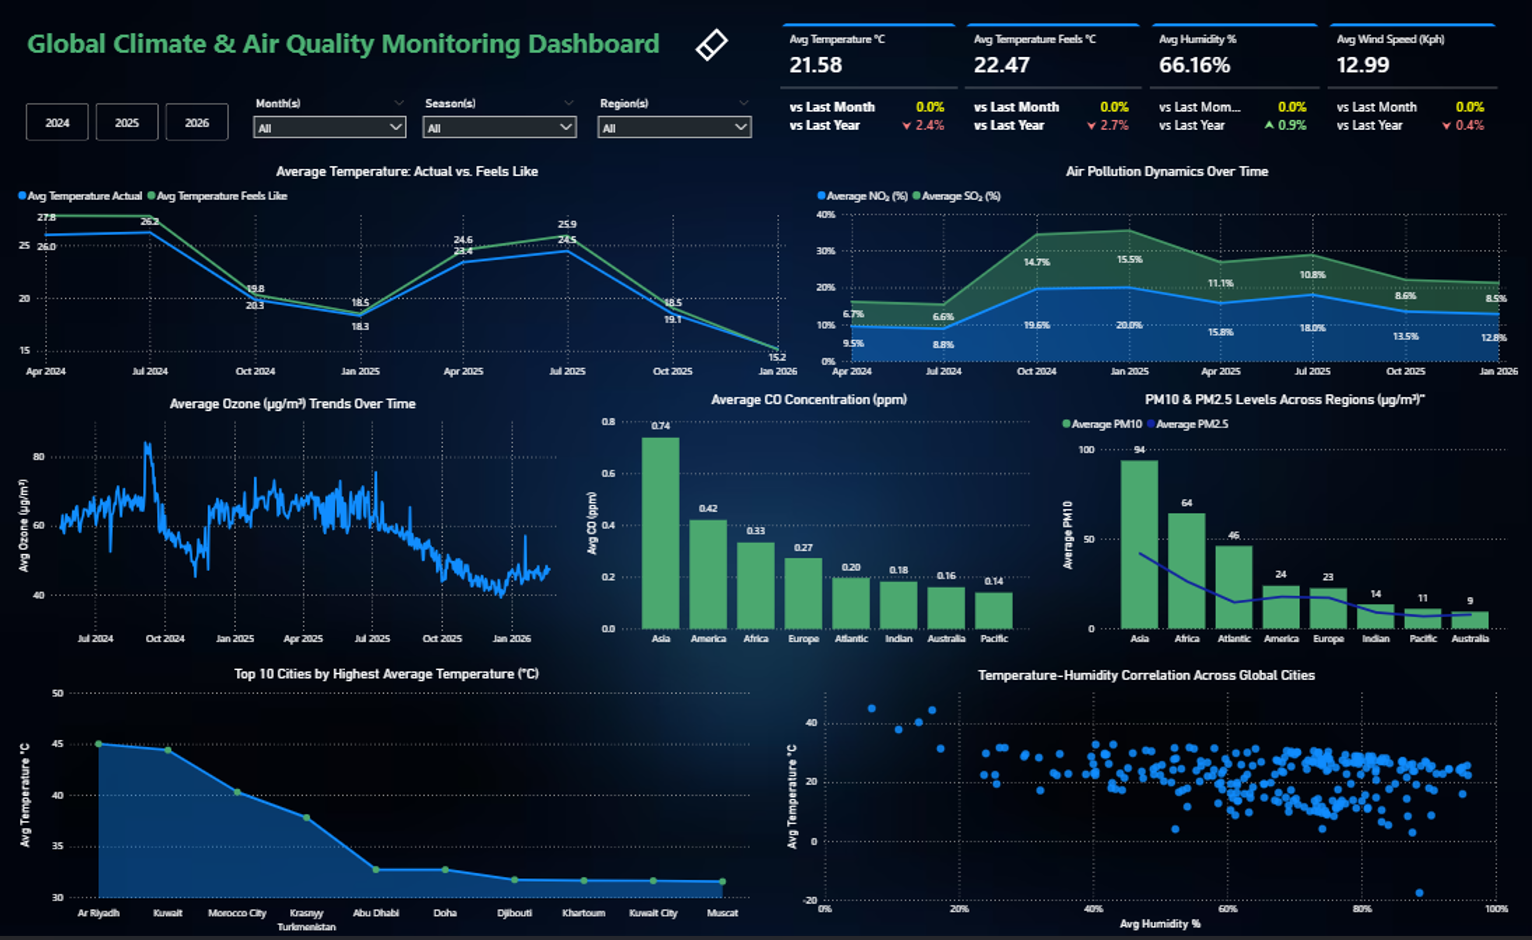

What the dashboard file says about the page in this screenshot:
{"tool":"powerbi","page":{"name":"Page 1","canvas":[1900,1400],"ordinal":0},"visuals":[{"type":"advancedSlicerVisual","fields":{"Values":["Weather.last_updated.Variation.Date Hierarchy.Year"]},"box":[36.2,246.6,260.3,56.9],"z":0},{"type":"slicer","fields":{"Values":["Weather.Continents"]},"box":[737,239.7,208.6,63.8],"z":1000},{"type":"cardVisual","fields":{"Data":["Weather.Avg temp clecius","Weather.Avg temp clecius feels like"]},"box":[954,136.2,481,191.4],"z":2000},{"type":"slicer","fields":{"Values":["Weather.last_updated.Variation.Date Hierarchy.Month"]},"box":[312.1,239.7,208,63.8],"z":3000},{"type":"slicer","fields":{"Values":["Weather.Season"]},"box":[520.7,239.7,208.6,63.8],"z":4000},{"type":"lineChart","title":"Average Temperature: Actual vs. Feels Like","fields":{"Category":["Weather.last_updated.Variation.Date Hierarchy.Year","Weather.last_updated.Variation.Date Hierarchy.Quarter","Weather.last_updated.Variation.Date Hierarchy.Month"],"Y":["Weather.Avg temp clecius","Weather.Avg temp clecius feels like"]},"box":[19,319,977.6,281],"z":5000},{"type":"stackedAreaChart","title":"Air Pollution Dynamics Over Time","fields":{"Category":["Weather.last_updated.Variation.Date Hierarchy.Year","Weather.last_updated.Variation.Date Hierarchy.Quarter","Weather.last_updated.Variation.Date Hierarchy.Month"],"Y":["Weather.Avg NO2","Weather.Avg SO2"]},"box":[1003.4,319,881,281],"z":6000},{"type":"cardVisual","fields":{"Data":["Weather.Avg humidity %"]},"box":[1409,136.2,244.8,191.4],"z":7000},{"type":"lineStackedColumnComboChart","title":"Average CO Concentration (ppm)","fields":{"Category":["Weather.Continents"],"Y":["Weather.Avg CO"]},"box":[719,600,567.2,329.3],"z":8000},{"type":"stackedAreaChart","title":"Top 10 Cities by Highest Average Temperature (°C)","fields":{"Category":["Weather.location_name"],"Y":["Avg(Weather.temperature_celsius)"]},"box":[19,937.9,925.9,343.1],"z":9000},{"type":"lineStackedColumnComboChart","title":"PM10 & PM2.5 Levels Across Regions (µg/m³)\"","fields":{"Y":["Avg(Weather.air_quality_PM10)"],"Y2":["Avg(Weather.air_quality_PM2.5)"],"Category":["Weather.Continents"]},"box":[1305.2,600,567.2,329.3],"z":10000},{"type":"cardVisual","fields":{"Data":["Weather.Avg wind kph"]},"box":[1627.6,136.2,244.8,191.4],"z":11000},{"type":"textbox","box":[19,150,827.6,60.3],"z":12000},{"type":"actionButton","box":[846.6,155.2,77.6,50],"z":13000},{"type":"lineChart","title":"Average Ozone (µg/m³) Trends Over Time","fields":{"Y":["Avg(Weather.air_quality_Ozone)"],"Category":["Weather.last_updated.Variation.Date Hierarchy.Year","Weather.last_updated.Variation.Date Hierarchy.Quarter","Weather.last_updated.Variation.Date Hierarchy.Month","Weather.last_updated.Variation.Date Hierarchy.Day"]},"box":[19,612.1,696.6,317.2],"z":14000},{"type":"scatterChart","title":"Temperature-Humidity Correlation Across Global Cities","fields":{"X":["Weather.Avg humidity %"],"Y":["Weather.Avg temp clecius"],"Category":["Weather.location_name"]},"box":[965.5,943.1,906.9,332.8],"z":15000}]}

Visuals, with their boxes on the page's 1900x1400 design canvas (x1, y1, x2, y2). These are canvas units, not pixel positions in the 1532x940 screenshot, which may show the page scaled, cropped or inside an application window:
advancedSlicerVisual - Weather.last_updated.Variation.Date Hierarchy.Year: 36, 247, 296, 304
slicer - Weather.Continents: 737, 240, 946, 304
cardVisual - Weather.Avg temp clecius x Weather.Avg temp clecius feels like: 954, 136, 1435, 328
slicer - Weather.last_updated.Variation.Date Hierarchy.Month: 312, 240, 520, 304
slicer - Weather.Season: 521, 240, 729, 304
"Average Temperature: Actual vs. Feels Like" lineChart: 19, 319, 997, 600
"Air Pollution Dynamics Over Time" stackedAreaChart: 1003, 319, 1884, 600
cardVisual - Weather.Avg humidity %: 1409, 136, 1654, 328
"Average CO Concentration (ppm)" lineStackedColumnComboChart: 719, 600, 1286, 929
"Top 10 Cities by Highest Average Temperature (°C)" stackedAreaChart: 19, 938, 945, 1281
"PM10 & PM2.5 Levels Across Regions (µg/m³)"" lineStackedColumnComboChart: 1305, 600, 1872, 929
cardVisual - Weather.Avg wind kph: 1628, 136, 1872, 328
textbox: 19, 150, 847, 210
actionButton: 847, 155, 924, 205
"Average Ozone (µg/m³) Trends Over Time" lineChart: 19, 612, 716, 929
"Temperature-Humidity Correlation Across Global Cities" scatterChart: 966, 943, 1872, 1276
